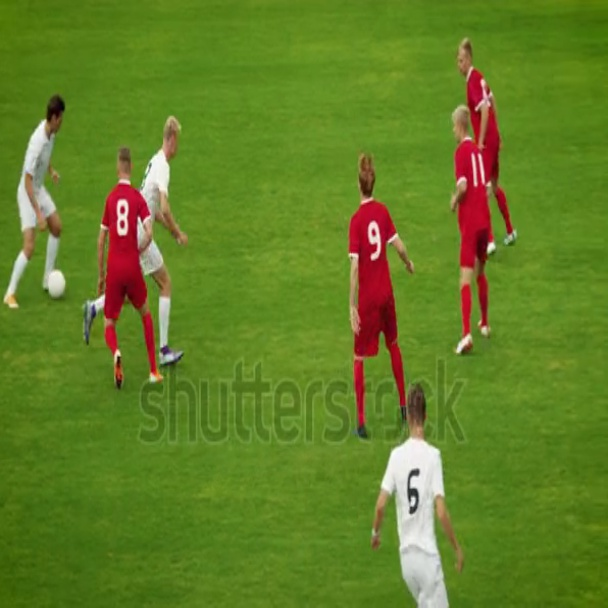ball: (46, 269, 68, 302)
